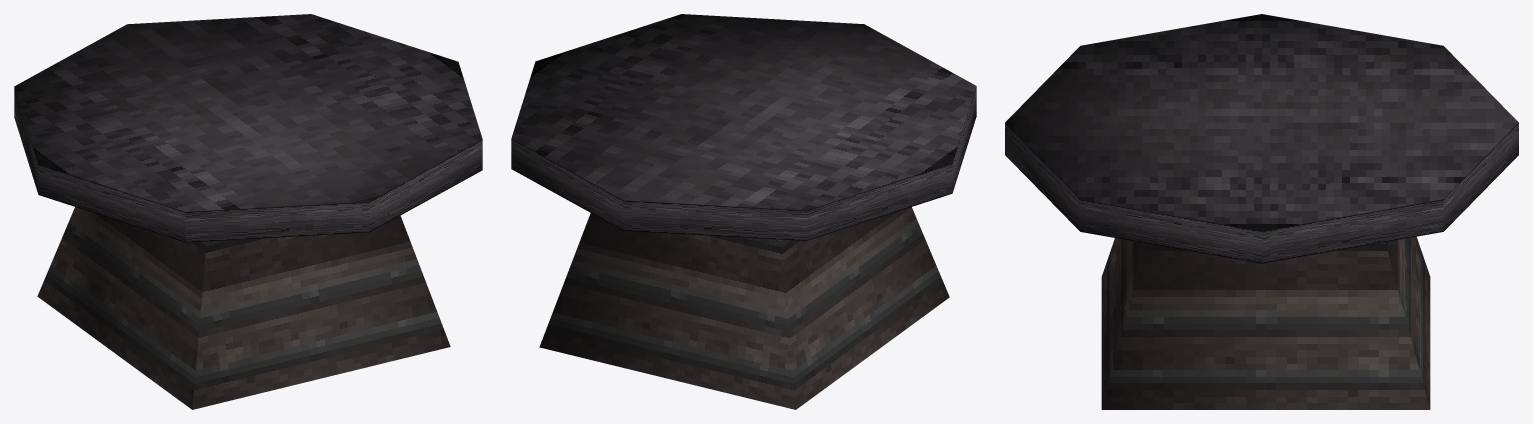
The model's file is ROUNDTABLED_ACTORDEF.fbx.
The picture shows the model from 3 angles, left to right: view 1: azimuth 30°, elevation 25°; view 2: azimuth 150°, elevation 25°; view 3: azimuth 270°, elevation 25°; orthographic projection. The views are drawn at different scales.
Visible parts, largest first — view 1: T_DSARKTABTOP_MDF, T_DARKTABSID_MDF; view 2: T_DSARKTABTOP_MDF, T_DARKTABSID_MDF; view 3: T_DSARKTABTOP_MDF, T_DARKTABSID_MDF.
Boxes of the visible parts, x1=… form: T_DSARKTABTOP_MDF: x1=14, y1=14, x2=482, y2=242; T_DARKTABSID_MDF: x1=37, y1=207, x2=450, y2=409; T_DSARKTABTOP_MDF: x1=511, y1=14, x2=976, y2=240; T_DARKTABSID_MDF: x1=539, y1=207, x2=949, y2=409; T_DSARKTABTOP_MDF: x1=1005, y1=14, x2=1518, y2=263; T_DARKTABSID_MDF: x1=1101, y1=236, x2=1430, y2=409.
Size of the model in its own units: 7.28 by 3.47 by 7.28.
